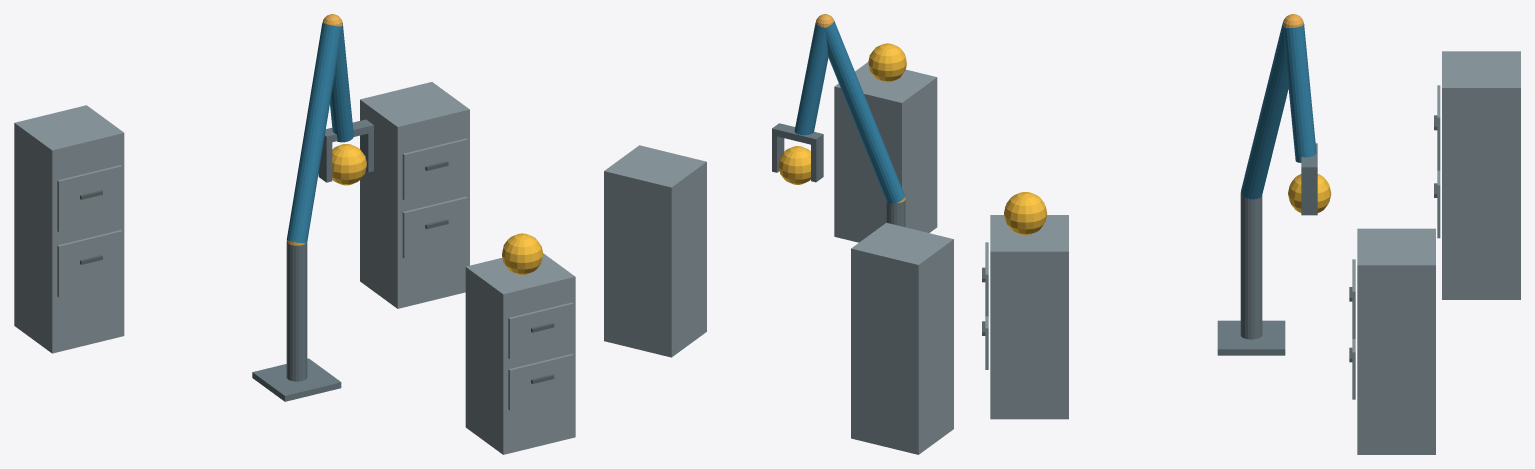
3 renders of one model, left to right at view 1: azimuth 30°, elevation 25°; view 2: azimuth 150°, elevation 25°; view 3: azimuth 270°, elevation 25°, orthographic. The views are drawn at different scales.
Visible parts, largest first — view 1: cabinet_3 body, cabinet_2 body, cabinet_1 body, moving link 1, cabinet_3 drawer front, cabinet_3 drawer front.001, cabinet_2 drawer front.001, cabinet_2 drawer front, fixed post, cabinet_1 drawer front.001, cabinet_1 drawer front, pedestal (+3 smaller); view 2: cabinet_3 body, cabinet_2 body, cabinet_1 body, moving link 1, moving link 2, released ball_1, ball ball_2, gripper bridge, gripper finger -1, fixed post, gripper finger 1; view 3: cabinet_3 body, cabinet_2 body, cabinet_1 body, moving link 1, fixed post, moving link 2, pedestal, released ball_1, ball ball_2, gripper finger 1.
Boxes of the visible parts, x1,y1,x2,y2 form: cabinet_3 body: (14,105,124,353); cabinet_2 body: (360,82,469,308); cabinet_1 body: (465,253,575,454); moving link 1: (286,23,341,243); cabinet_3 drawer front: (57,230,122,297); cabinet_3 drawer front.001: (57,165,122,232); cabinet_2 drawer front.001: (402,138,467,200); cabinet_2 drawer front: (402,196,467,258); fixed post: (286,242,307,381); cabinet_1 drawer front.001: (508,302,573,358); cabinet_1 drawer front: (508,354,573,410); pedestal: (252,358,341,401); cabinet_3 body: (851,222,953,454); cabinet_2 body: (604,145,706,357); cabinet_1 body: (834,62,937,242); moving link 1: (825,20,904,203); moving link 2: (794,22,828,135); released ball_1: (868,43,906,82); ball ball_2: (778,146,810,184); gripper bridge: (772,123,823,145); gripper finger -1: (811,141,823,182); fixed post: (886,200,905,227); gripper finger 1: (772,135,784,172); cabinet_3 body: (1442,51,1520,299); cabinet_2 body: (1357,228,1435,454); cabinet_1 body: (990,215,1068,419); moving link 1: (1241,22,1288,199); fixed post: (1240,194,1262,339); moving link 2: (1284,24,1316,162); pedestal: (1217,320,1285,355); released ball_1: (1004,192,1047,235); ball ball_2: (1288,174,1331,212); gripper finger 1: (1301,174,1317,215).
Bounding box in the file's own units: 1.67 × 1.44 × 1.98.
